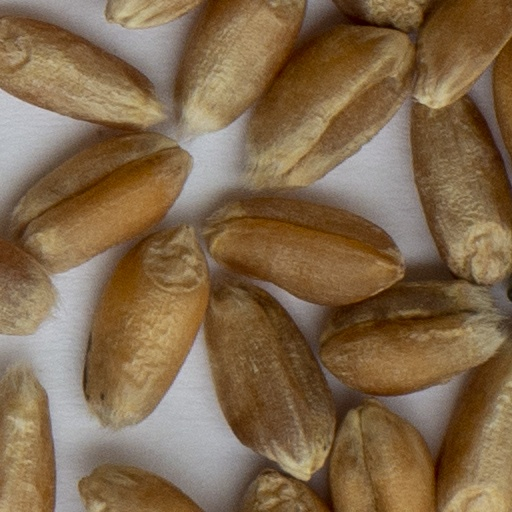Wheat-grain-poly: (434, 325, 511, 511), (326, 398, 436, 511), (80, 465, 211, 511), (240, 472, 327, 511)
